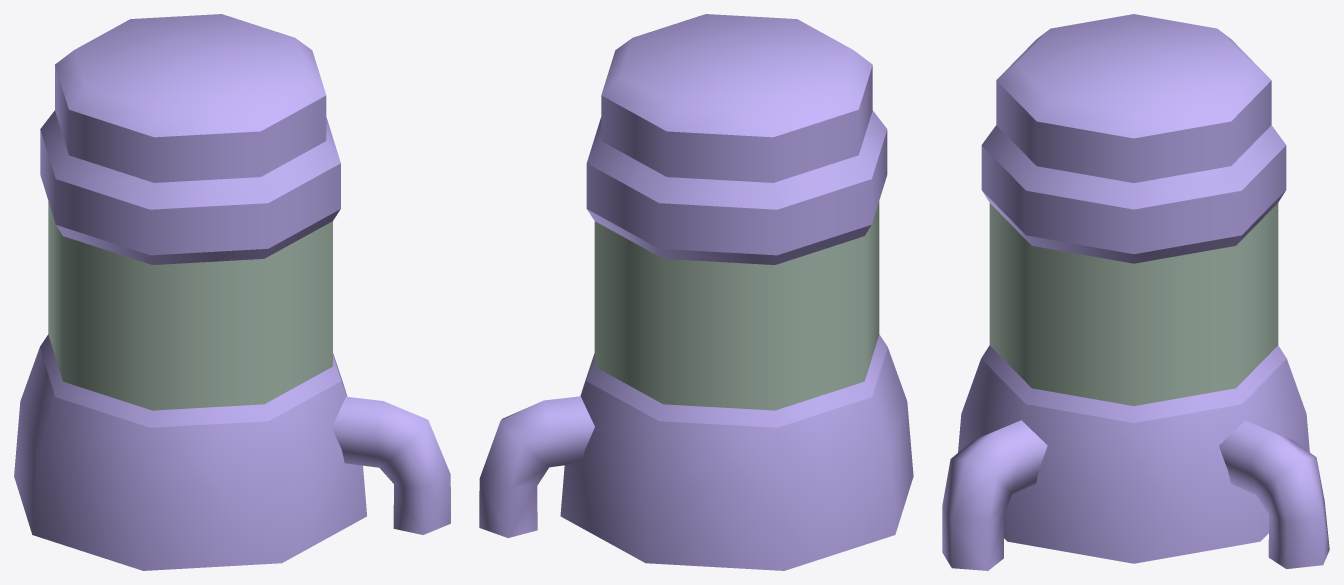
3 views of the same model, side by side, from view 1: azimuth 30°, elevation 25°; view 2: azimuth 150°, elevation 25°; view 3: azimuth 270°, elevation 25° (orthographic). The views are drawn at different scales.
Parts seen in each view (by area): view 1: Object36; view 2: Object36; view 3: Object36.
Part boxes in pixels (x1,y1,x2,y2): Object36: (14, 14, 450, 570); Object36: (479, 14, 913, 570); Object36: (942, 14, 1329, 570).
Size of the model in its own units: 263 by 329 by 272.
